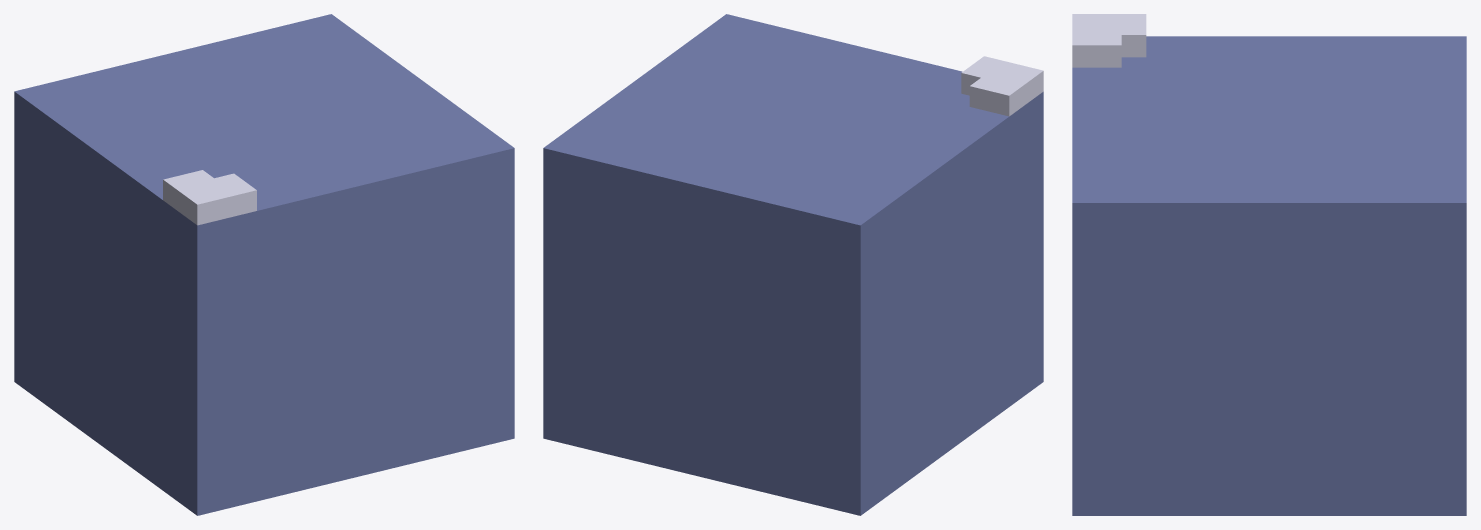
The model's file is GroundInwardCorner_1.fbx.
3 renders of one model, left to right at view 1: azimuth 30°, elevation 25°; view 2: azimuth 150°, elevation 25°; view 3: azimuth 270°, elevation 25°, orthographic. The views are drawn at different scales.
Visible parts, largest first — view 1: GroundInwardCorner_1; view 2: GroundInwardCorner_1; view 3: GroundInwardCorner_1.
Boxes of the visible parts, x1,y1,x2,y2 form: GroundInwardCorner_1: [14, 14, 514, 515]; GroundInwardCorner_1: [543, 14, 1043, 515]; GroundInwardCorner_1: [1072, 14, 1466, 515].
Size of the model in its own units: 16 by 15 by 16.
Materials: 1 (1 with a texture image).
